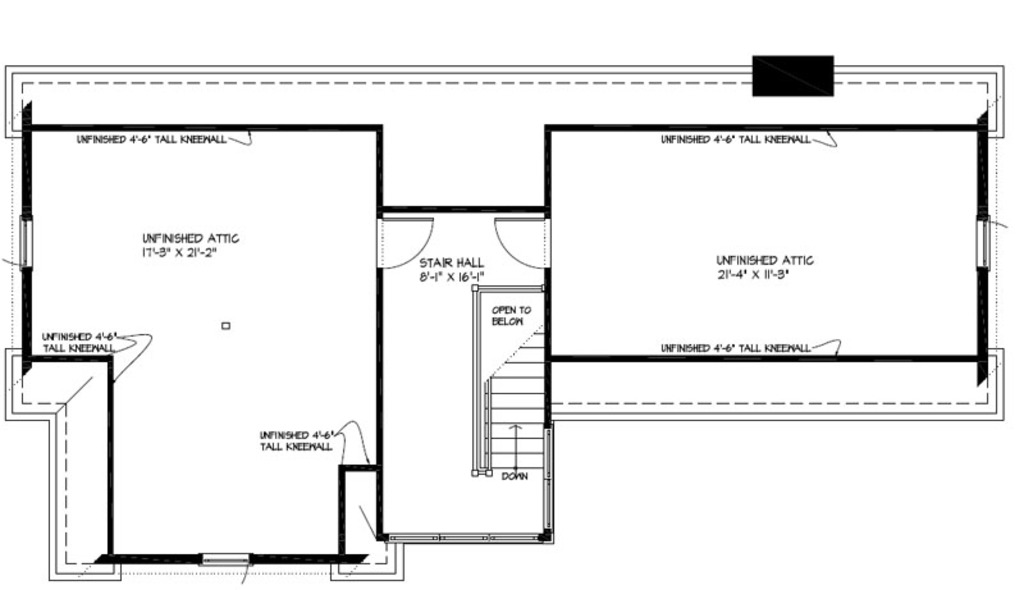door: (373, 218, 435, 271), (494, 215, 552, 271)
stairs: (470, 283, 552, 489)
windows: (16, 213, 40, 271), (195, 550, 252, 570), (975, 217, 994, 273)
